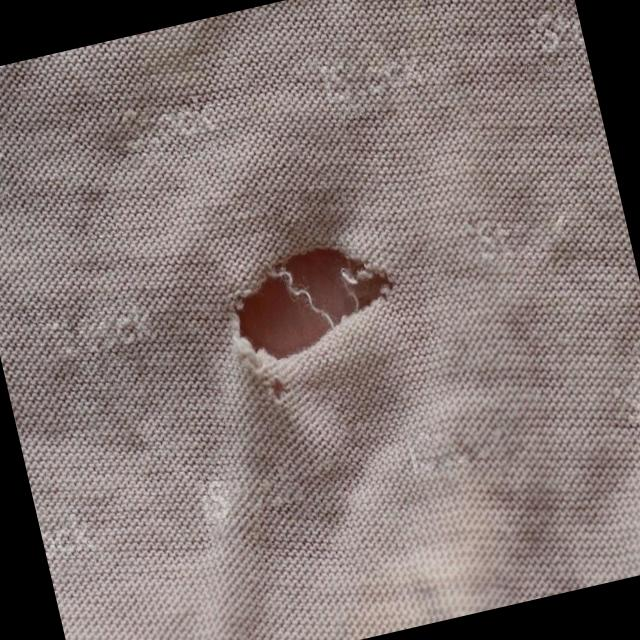cut: (214, 218, 422, 414)
